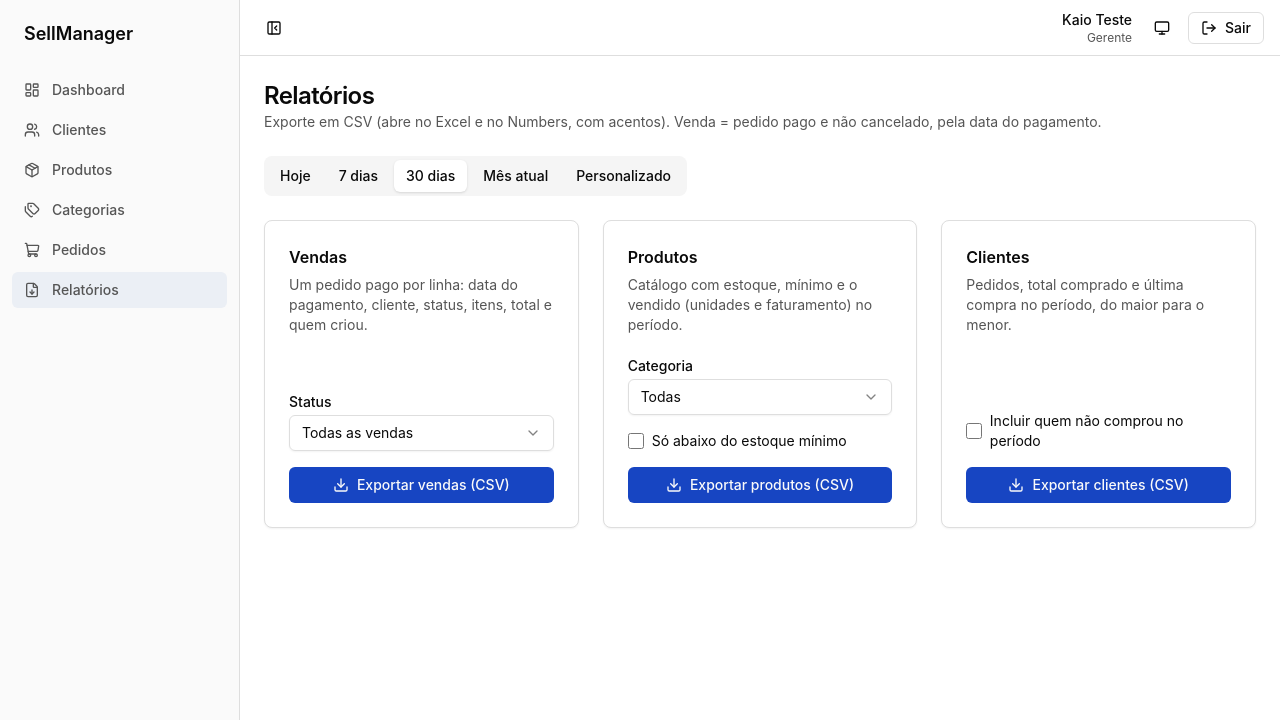
Scenario: Relatórios › erro da API aparece como aviso e nada é salvo
This screenshot has width=1280, height=720.
What coordinates should you click on to do the following:
click the button "Exportar vendas (CSV)"
I would click on:
 (421, 485)
Its box is [289, 467, 554, 503].
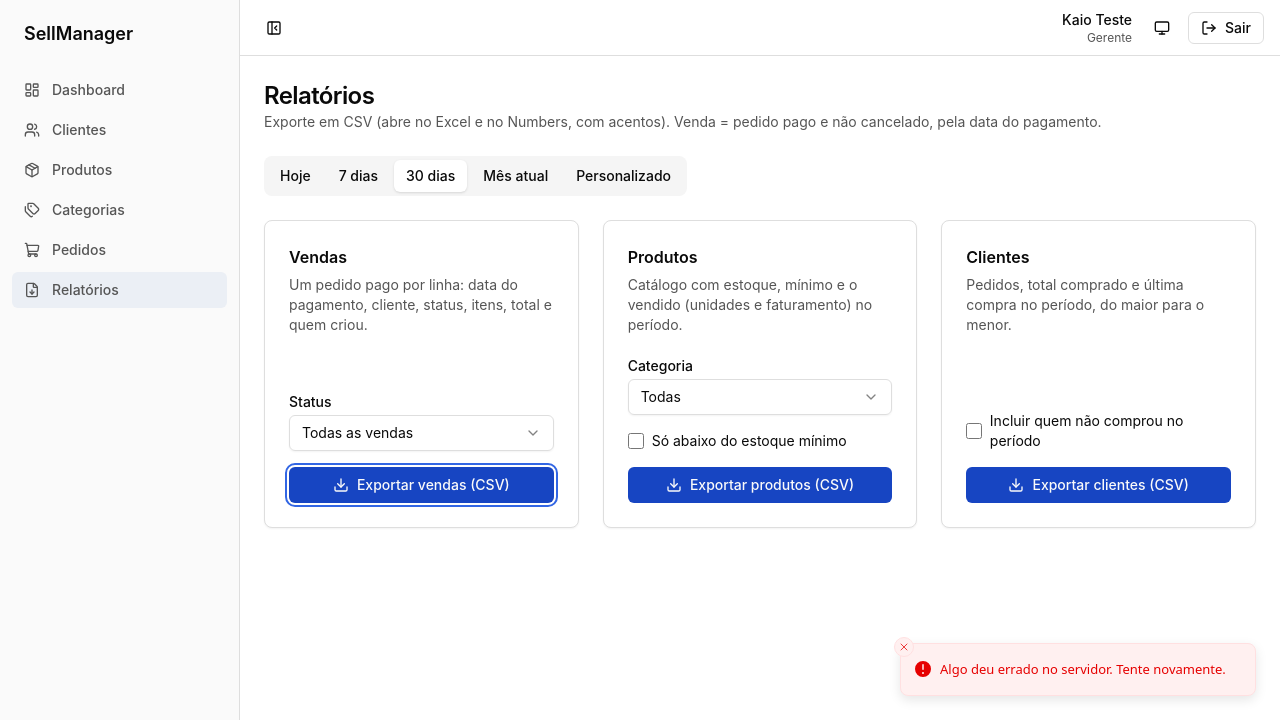
Now the text "Algo deu errado no servidor. Tente novamente." is shown, box [940, 660, 1226, 679]
